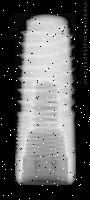Euroteknika: (15, 13, 76, 185)
